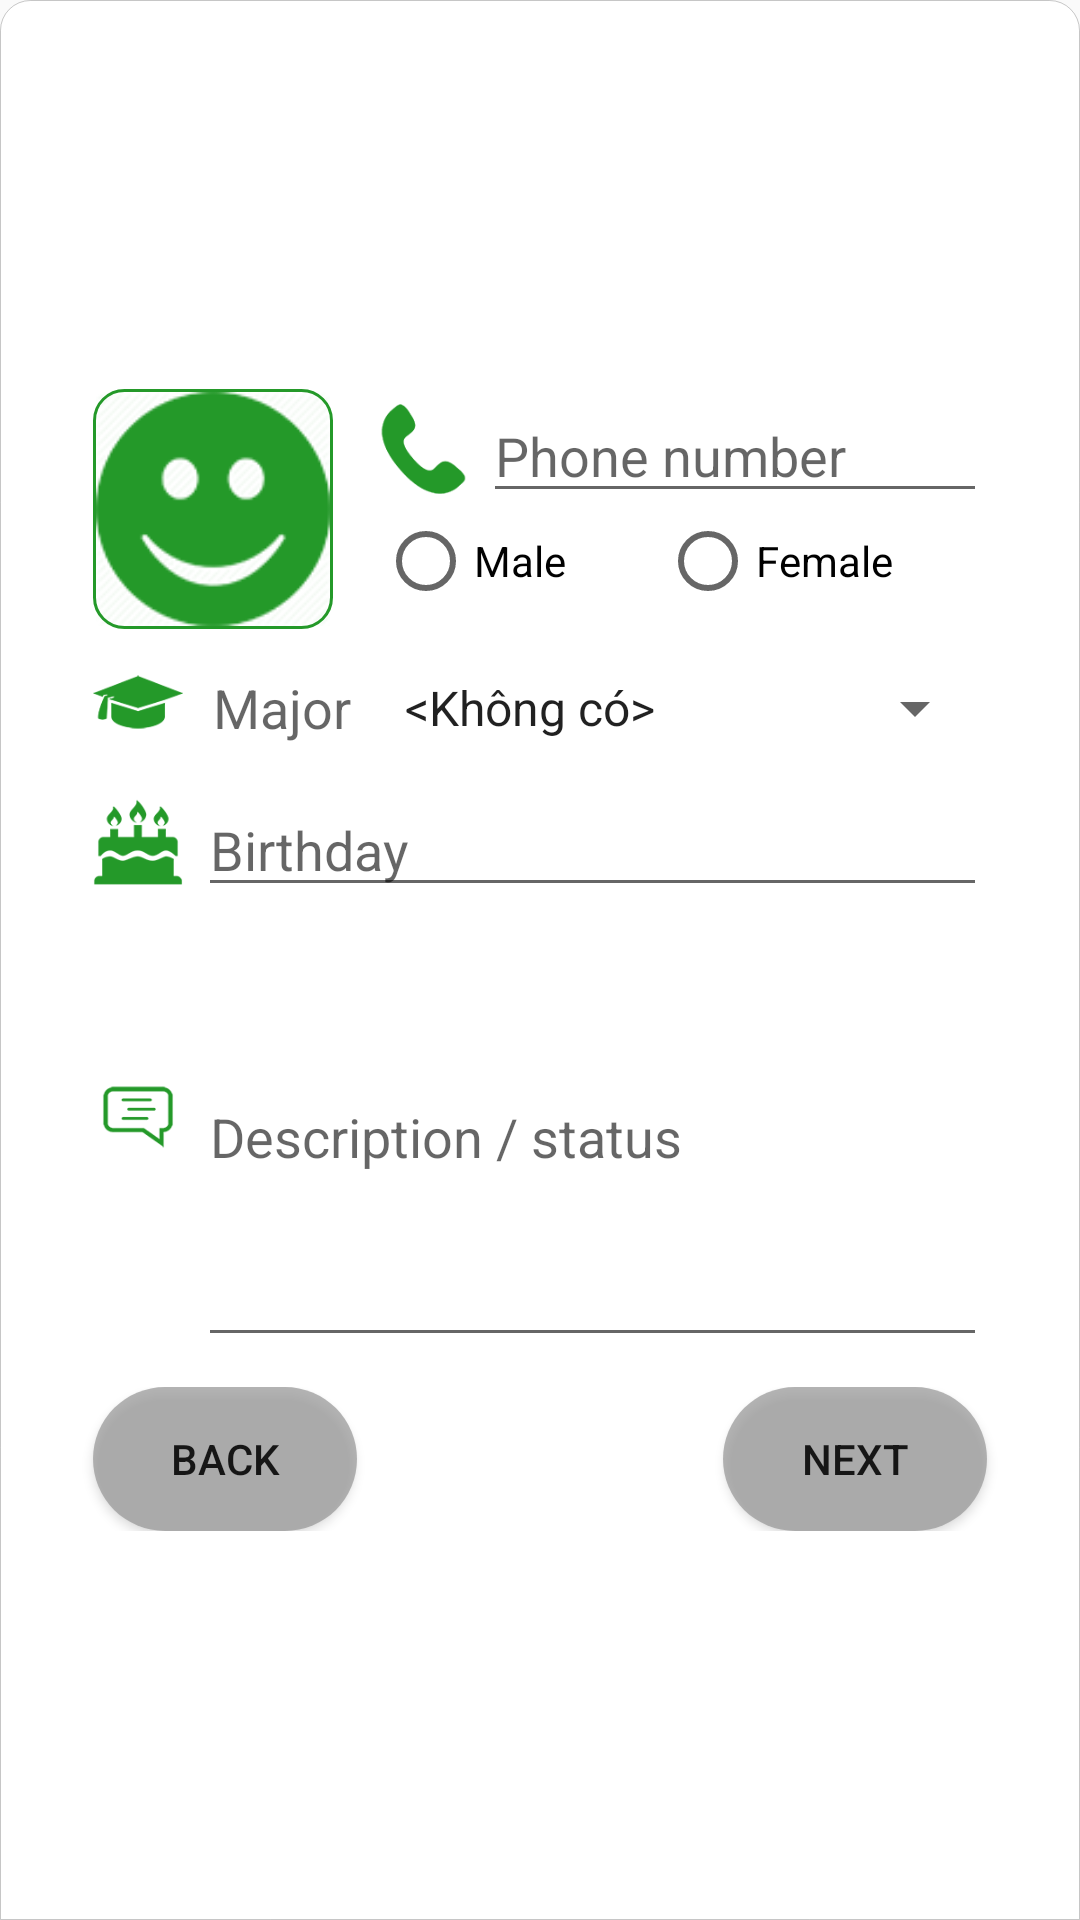

Named icons in this screenshot (1080px x 1920px) and their centers, (x=x, y=y):
mobile phone: (x=423, y=449)
